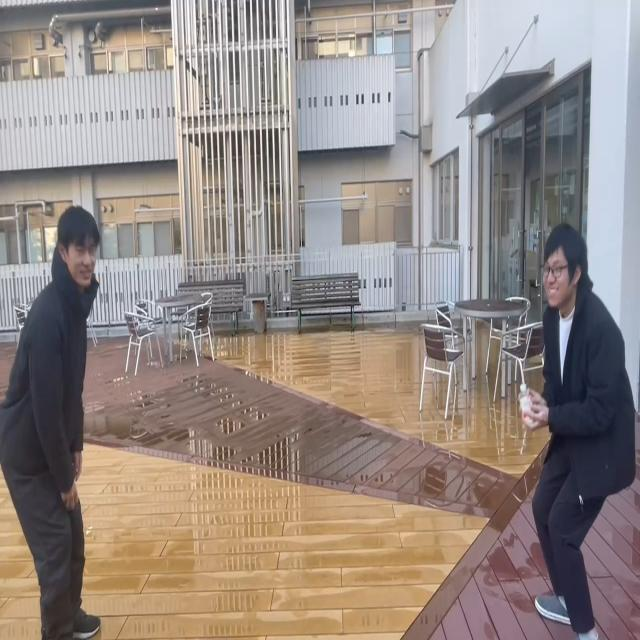bottle: (518, 380, 536, 427)
